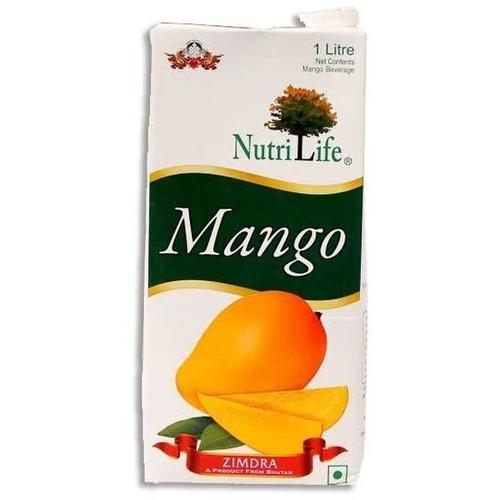VEG: (327, 463, 348, 487)
